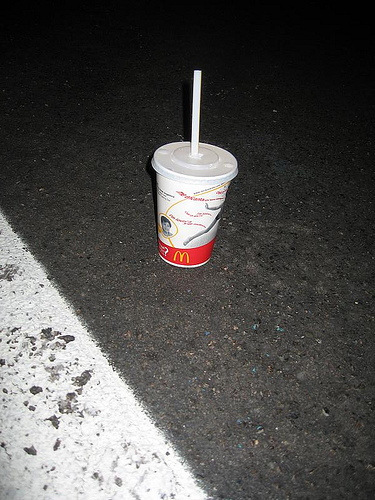litter: (150, 67, 240, 271)
